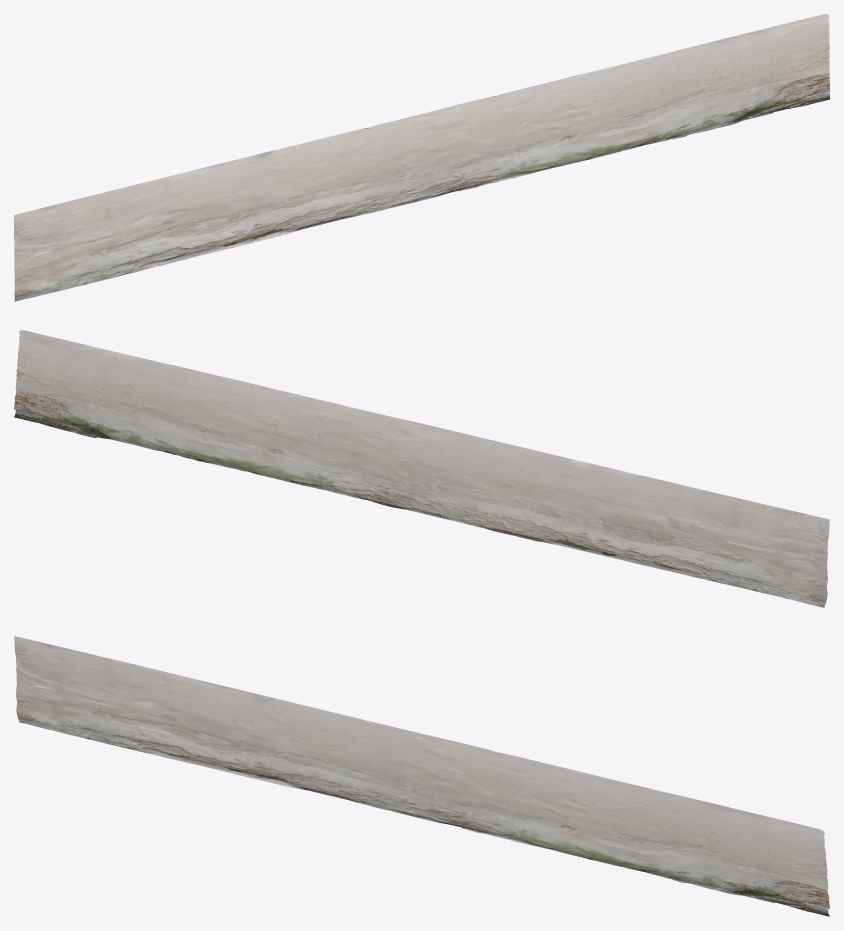
The model's file is longwall.glb.
3 renders of one model, top to bottom at view 1: azimuth 30°, elevation 25°; view 2: azimuth 150°, elevation 25°; view 3: azimuth 330°, elevation 25°, orthographic.
Visible parts, largest first — view 1: Model_material0_0, Model_material1_0; view 2: Model_material0_0, Model_material1_0; view 3: Model_material0_0, Model_material1_0.
Part boxes in pixels (bbox=[...]): Model_material0_0: bbox=[14, 82, 750, 301]; Model_material1_0: bbox=[14, 14, 829, 257]; Model_material0_0: bbox=[92, 397, 827, 607]; Model_material1_0: bbox=[14, 330, 829, 562]; Model_material0_0: bbox=[16, 679, 752, 897]; Model_material1_0: bbox=[14, 636, 829, 916].
Bounding box in the file's own units: 18.75 × 1.98 × 0.3681.
2 materials, 2 textured.
